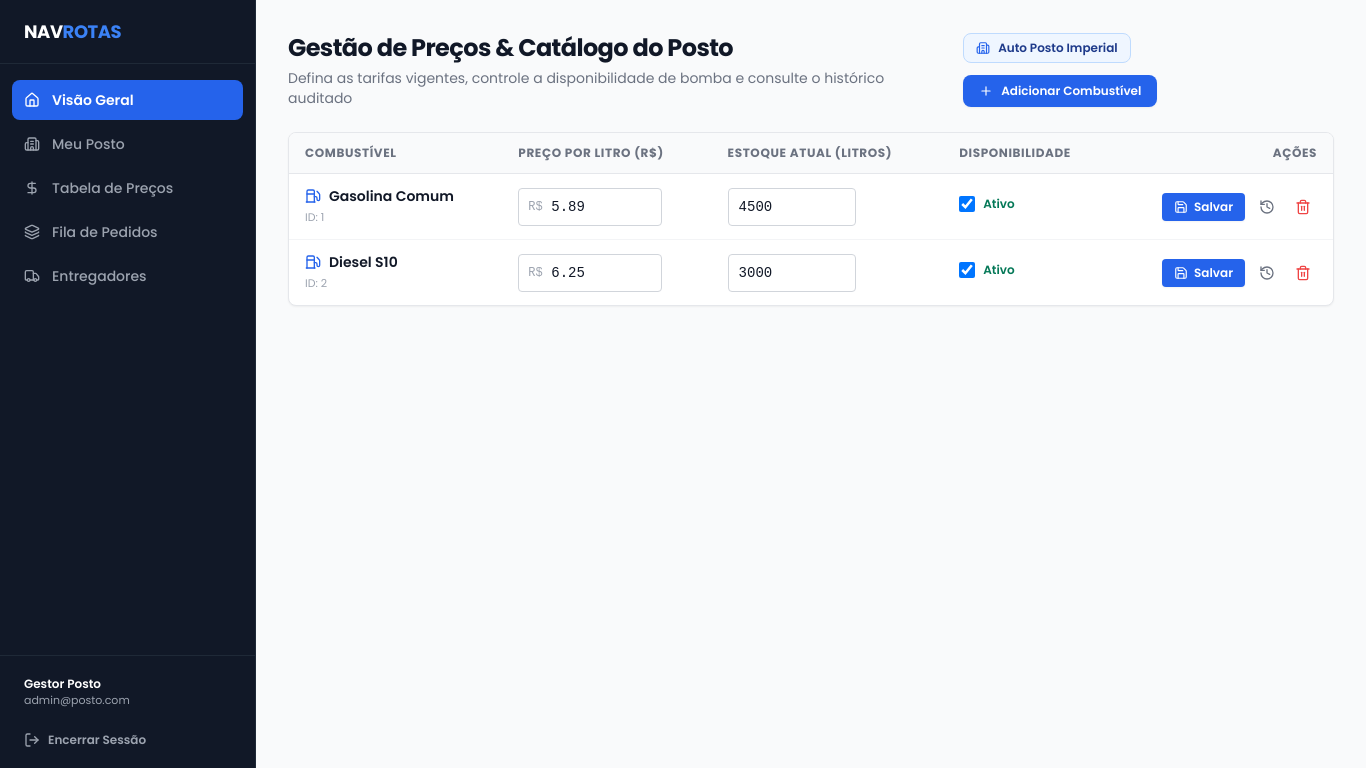
PostoCatalogoPage › desabilita apenas o botão da linha correspondente ao salvar preço (FE-07)
The image size is (1366, 768).
Later steps or results of the test are not shown.
Expected: the text "Gasolina Comum" is shown, [329,186,454,206]
Expected: the text "Diesel S10" is shown, [329,252,398,272]
Click the button "Salvar" in the row of "Gasolina Comum". click: (1204,206)
box: [1162,192,1245,220]
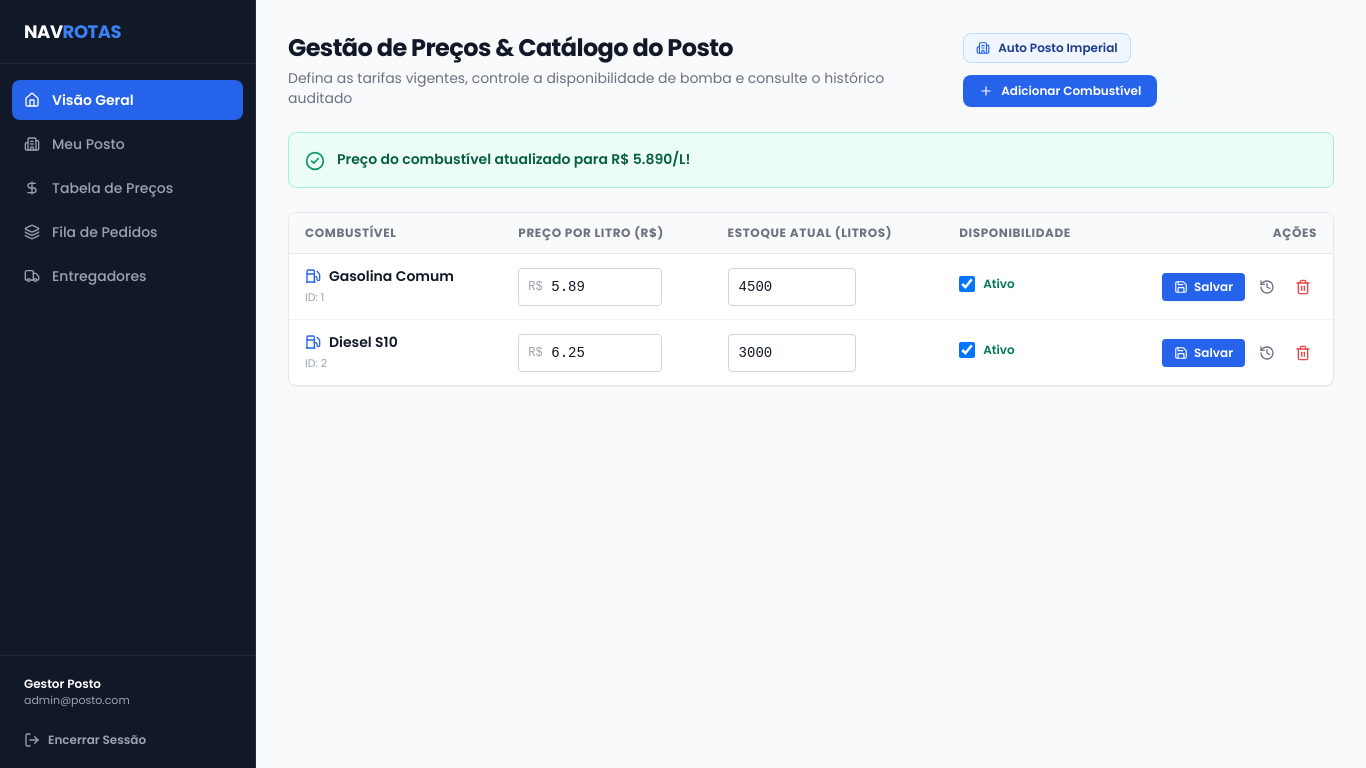
Expected: the button "Salvar" in the row of "Diesel S10" is enabled, [1162,338,1245,366]
Expected: the text "Preço do combustível atualizado para R$ 5.890/L!" is shown, [337,149,690,169]
